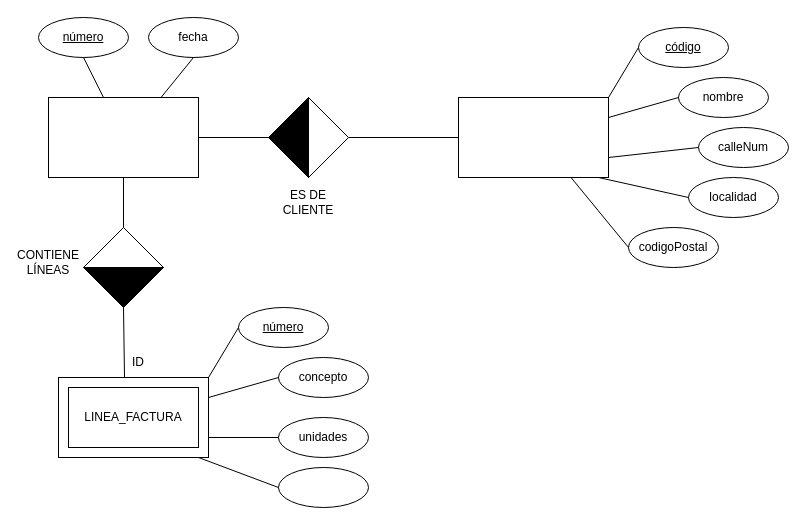
The diagram is 806 pixels wide and 525 high, and some of its shapes have lost their labels. Each missing label, with the centre of its shape:
"CLIENTE" belongs at point (533, 137).
"FACTURA" belongs at point (123, 137).
"precioUnitario" belongs at point (323, 487).
